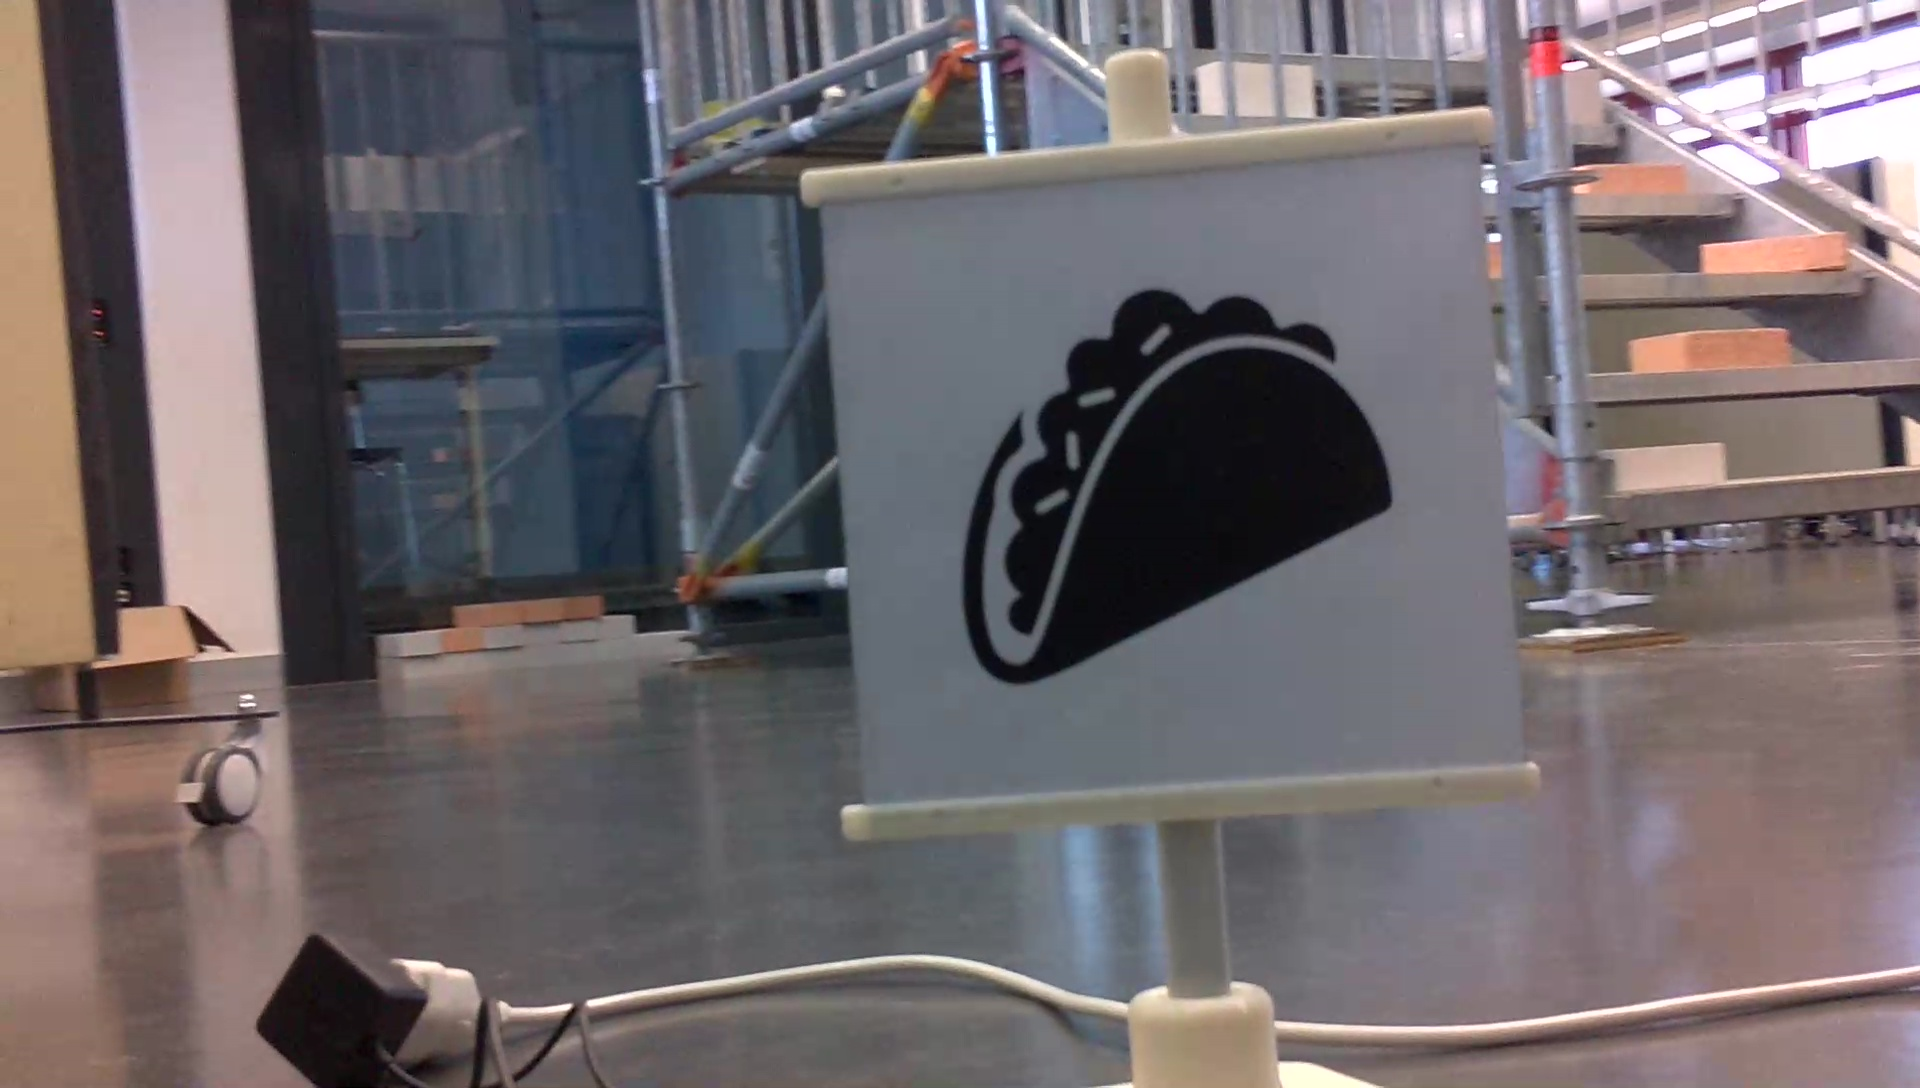brick: (1629, 327, 1785, 371), (1705, 233, 1847, 268), (1613, 444, 1721, 488), (1588, 167, 1688, 198)
taco: (955, 270, 1410, 695)
